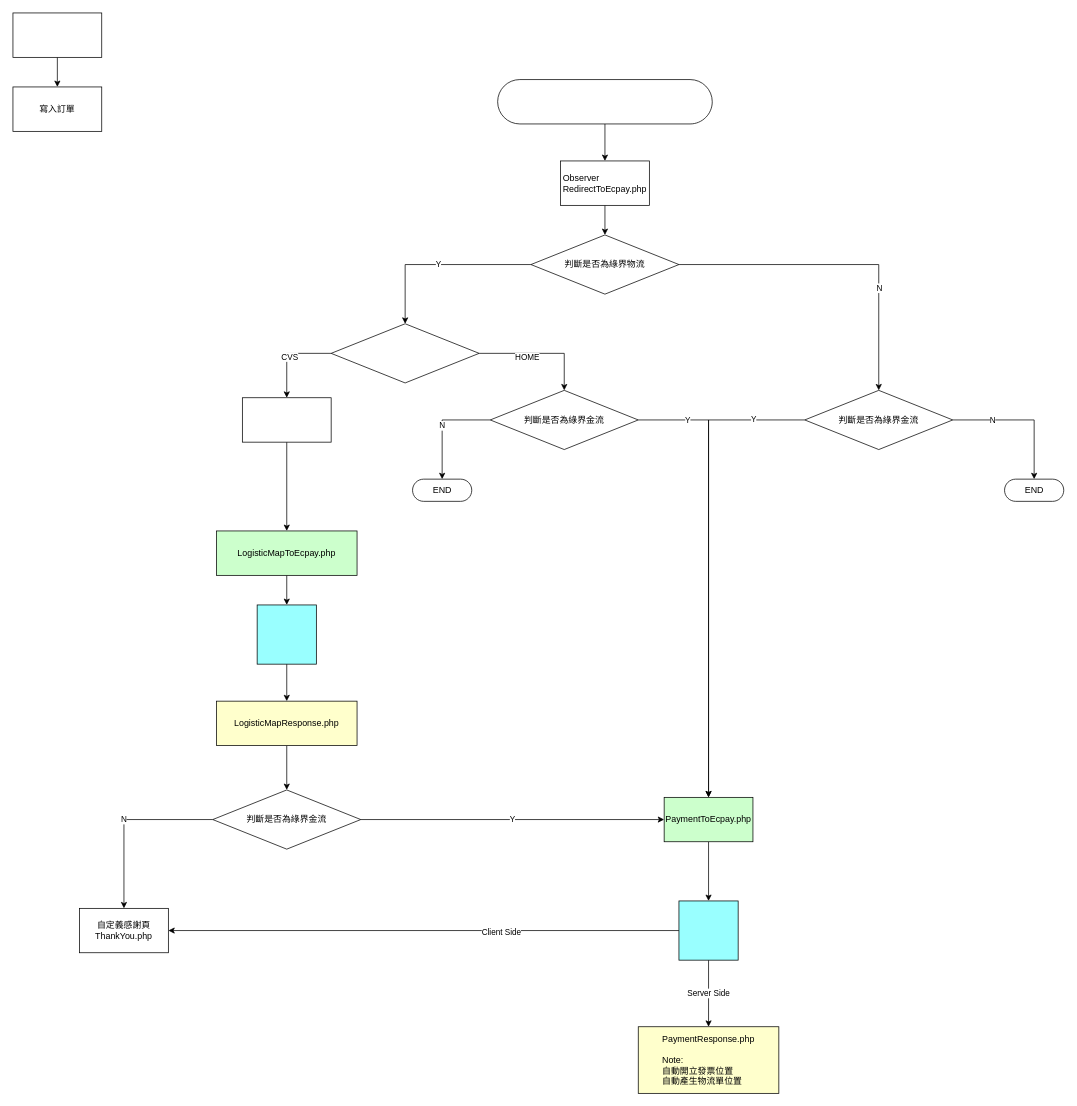
Some shapes in this 1077 by 1106 pixel diagram are drawn without their labels. The centre of each missing label's shape, as x and y in pixels:
"(Hook 位置) Event onePage Success checkout_onepage_controller_success_action" goes at [604,101].
"ECPAY LOGISTIC MAP API" goes at [286,634].
"ECPAY PAYMENT API" goes at [708,930].
"判斷物流類型" goes at [404,353].
"購物車發票資訊" goes at [57,34].
"超商取貨" goes at [286,419].
